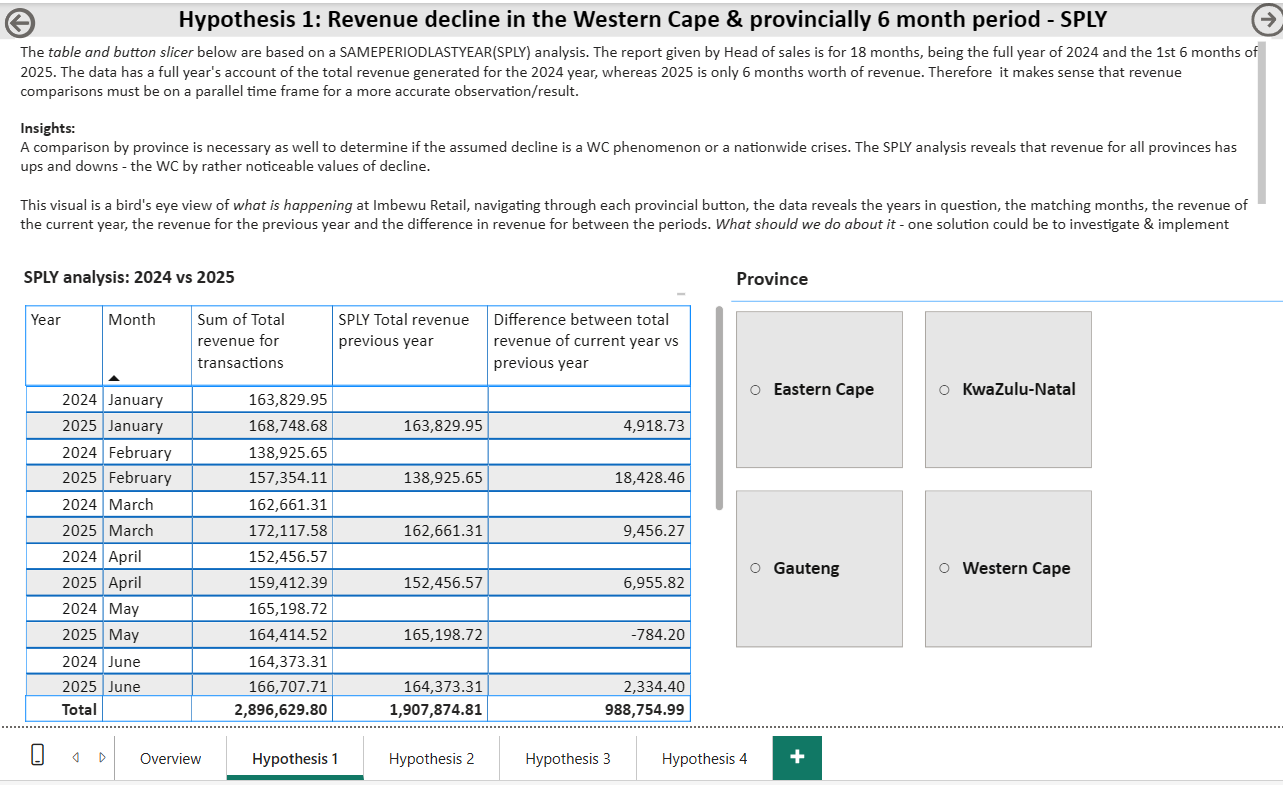

The page's visual inventory and layout, read from the dashboard file:
{"tool":"powerbi","page":{"name":"Hypothesis  1","canvas":[1280,720],"ordinal":1},"visuals":[{"type":"textbox","title":"Hypothesis 1: Revenue decline in the Western Cape & provincially 6 month period - SPLY","box":[0,0,1280,36.1],"z":0},{"type":"textbox","box":[14.9,33.6,1250.2,245.1],"z":1000},{"type":"actionButton","box":[0,0,38.6,39.8],"z":2000},{"type":"actionButton","box":[1245.2,0,34.8,33.6],"z":3000},{"type":"actionButton","box":[0,0,100,40],"z":4000},{"type":"tableEx","fields":{"Values":["transactions.transaction_date.Variation.Date Hierarchy.Year","transactions.transaction_date.Variation.Date Hierarchy.Month","Sum(transaction_items.Total revenue for transactions)","transaction_items.Total revenue previous year","transaction_items.Difference between total revenue of current year vs previous year"]},"box":[18.7,296.1,706.6,424.2],"z":5000},{"type":"advancedSlicerVisual","title":"Province","fields":{"Values":["stores.province"]},"box":[727.7,261.2,552.3,384.4],"z":6000},{"type":"textbox","title":"SPLY analysis: 2024 vs 2025","box":[18.7,261.2,668,34.8],"z":7000}]}

Visuals, with their boxes on the page's 1280x720 design canvas (x1, y1, x2, y2). These are canvas units, not pixel positions in the 1283x785 screenshot, which may show the page scaled, cropped or inside an application window:
"Hypothesis 1: Revenue decline in the Western Cape & provincially 6 month period - SPLY" textbox: box(0, 0, 1280, 36)
textbox: box(15, 34, 1265, 279)
actionButton: box(0, 0, 39, 40)
actionButton: box(1245, 0, 1280, 34)
actionButton: box(0, 0, 100, 40)
tableEx - transactions.transaction_date.Variation.Date Hierarchy.Year x transactions.transaction_date.Variation.Date Hierarchy.Month: box(19, 296, 725, 720)
"Province" advancedSlicerVisual: box(728, 261, 1280, 646)
"SPLY analysis: 2024 vs 2025" textbox: box(19, 261, 687, 296)
